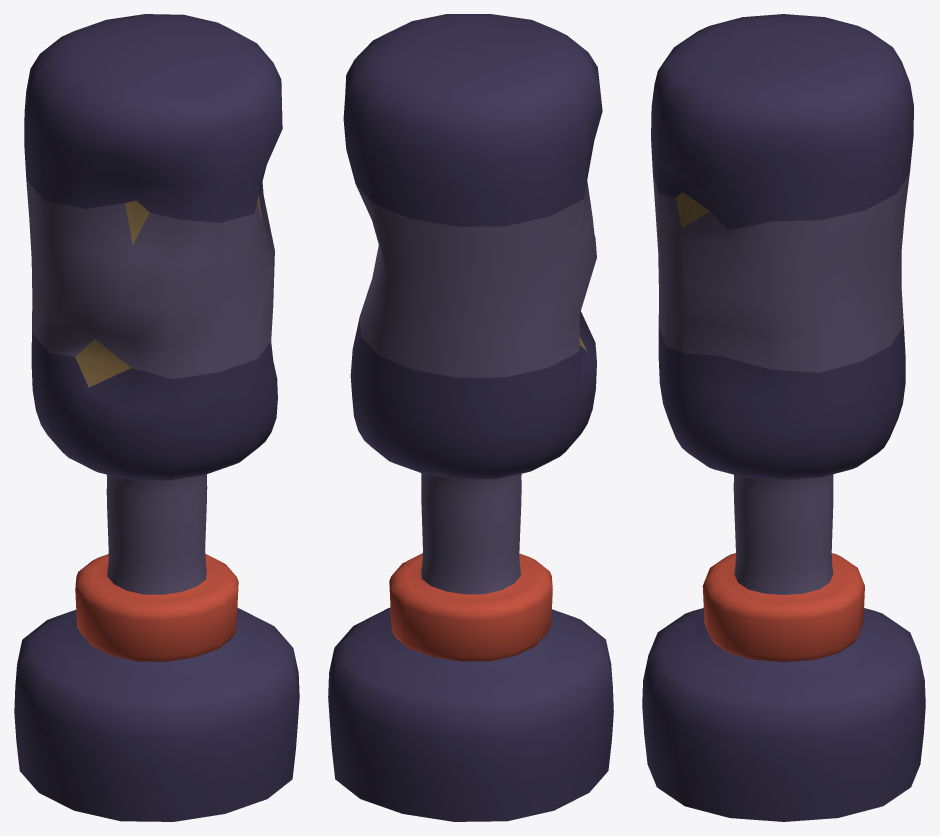
The model's file is boxing_mannequin-2.fbx.
The picture shows the model from 3 angles, left to right: view 1: azimuth 30°, elevation 25°; view 2: azimuth 150°, elevation 25°; view 3: azimuth 270°, elevation 25°; orthographic projection.
Parts seen in each view (by area): view 1: boxing mannequin-2; view 2: boxing mannequin-2; view 3: boxing mannequin-2.
Part boxes in pixels (x1,y1,x2,y2): boxing mannequin-2: (14, 14, 299, 821); boxing mannequin-2: (328, 14, 613, 821); boxing mannequin-2: (642, 14, 925, 821).
Size of the model in its own units: 0.3466 by 0.9691 by 0.3466.
